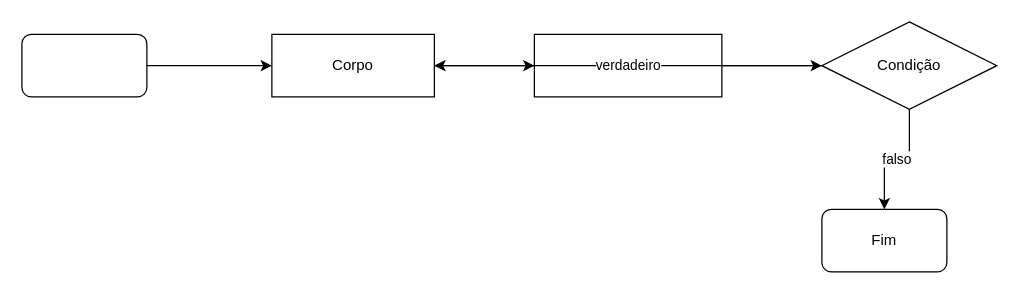
This 1019x294 diagram has some shape labels left out. Each missing label, with the centre of its shape:
"Atualização" belongs at point (627, 65).
"Início" belongs at point (84, 65).
